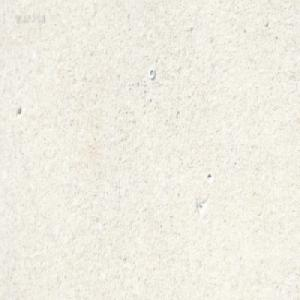Washer: (149, 68, 155, 80)
